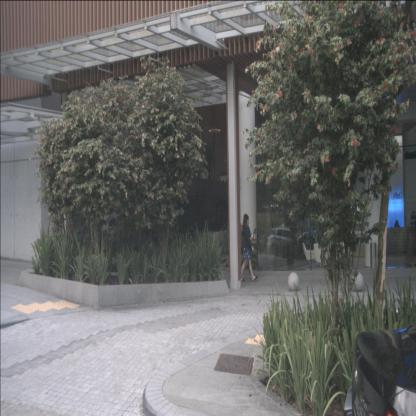human-pedestrian-adult: (240, 214, 258, 282)
vehicle-car: (266, 225, 304, 257)
